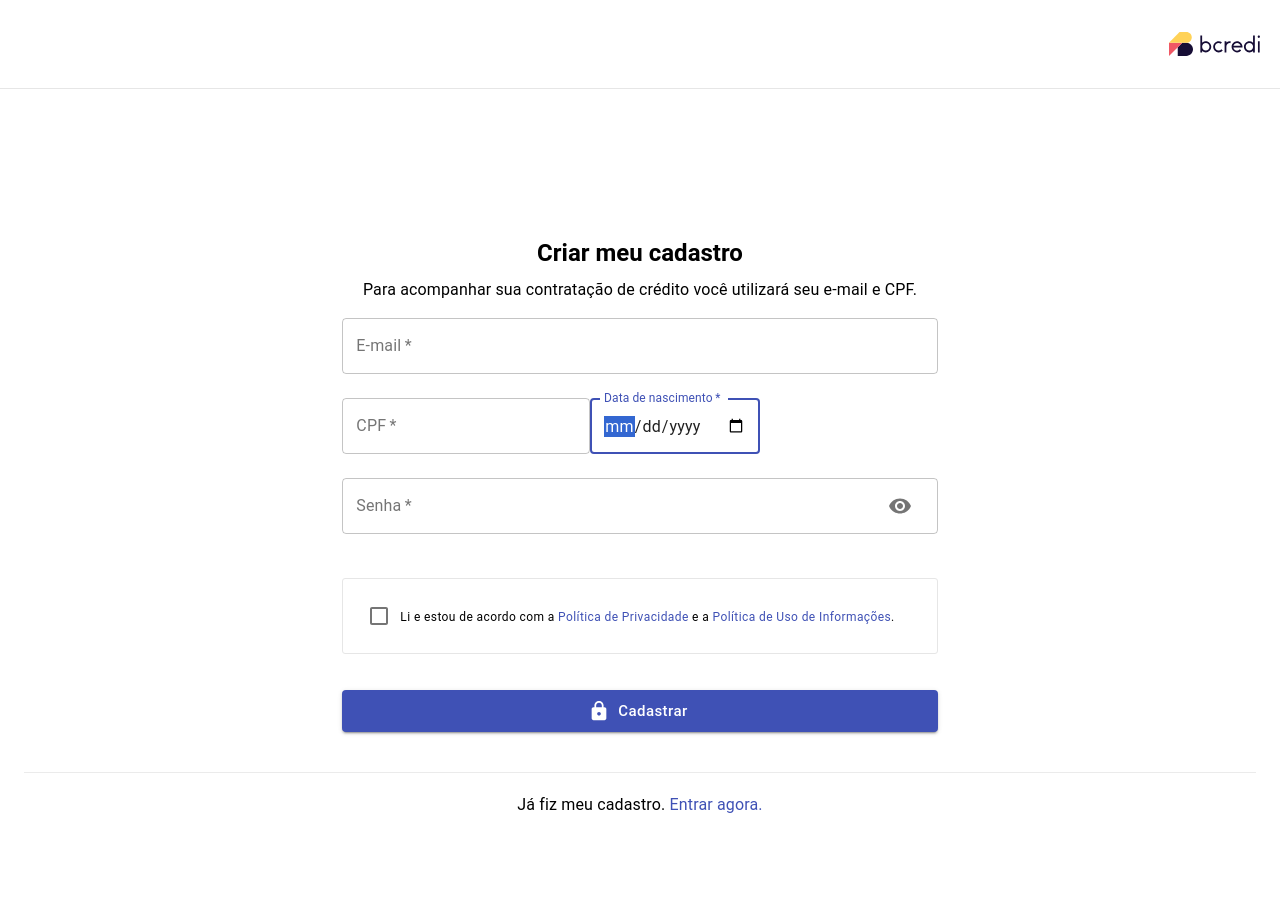
Test: App component › should show a success message when the form is sent successfully
Type "meu@email.com" into the field named "email" at (640, 346), box top-left (342, 318), bottom-right (938, 374)
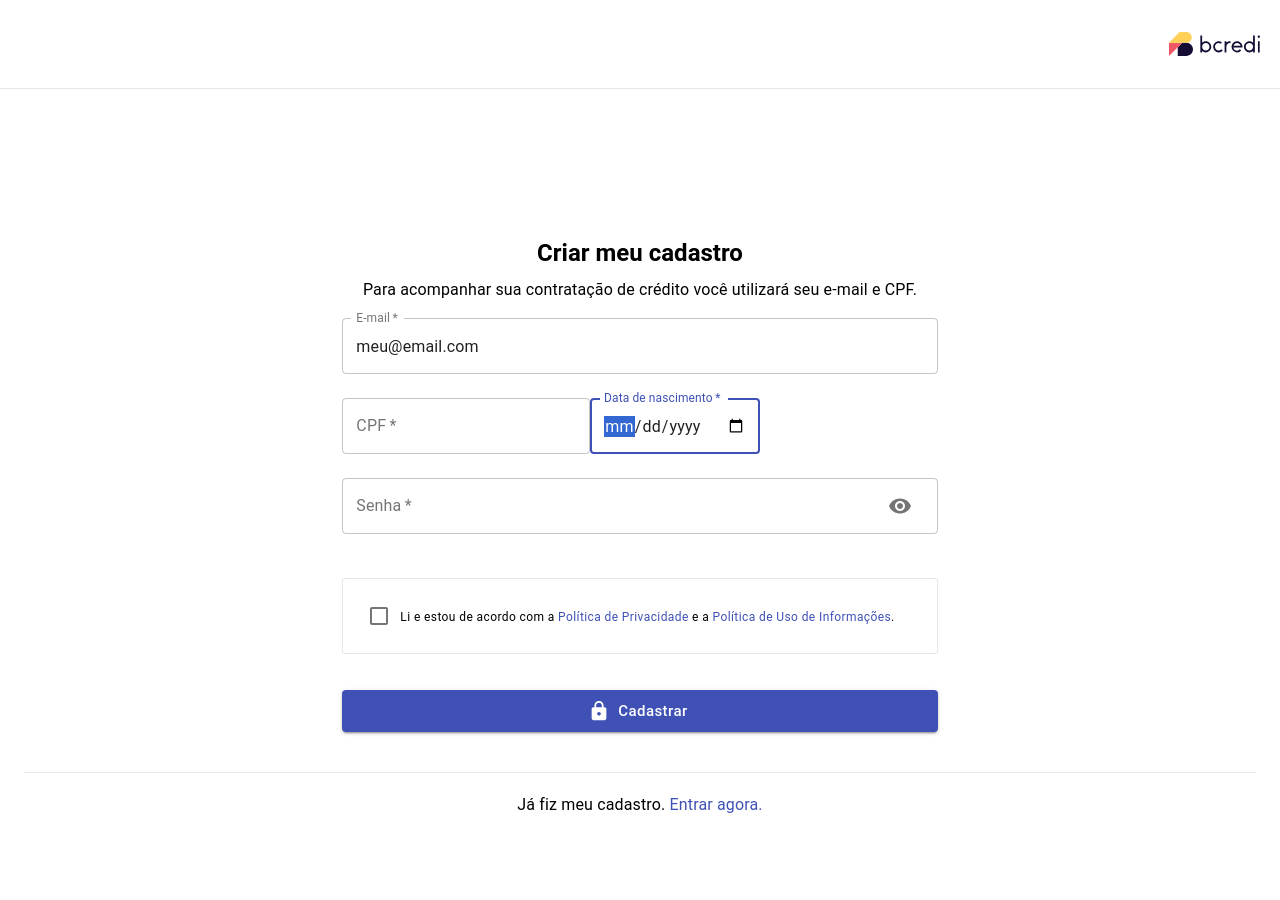
Type "111.111.111-11" into the field named "cpf" in the row of "Data de nascimento" at (466, 426), box top-left (342, 398), bottom-right (590, 454)
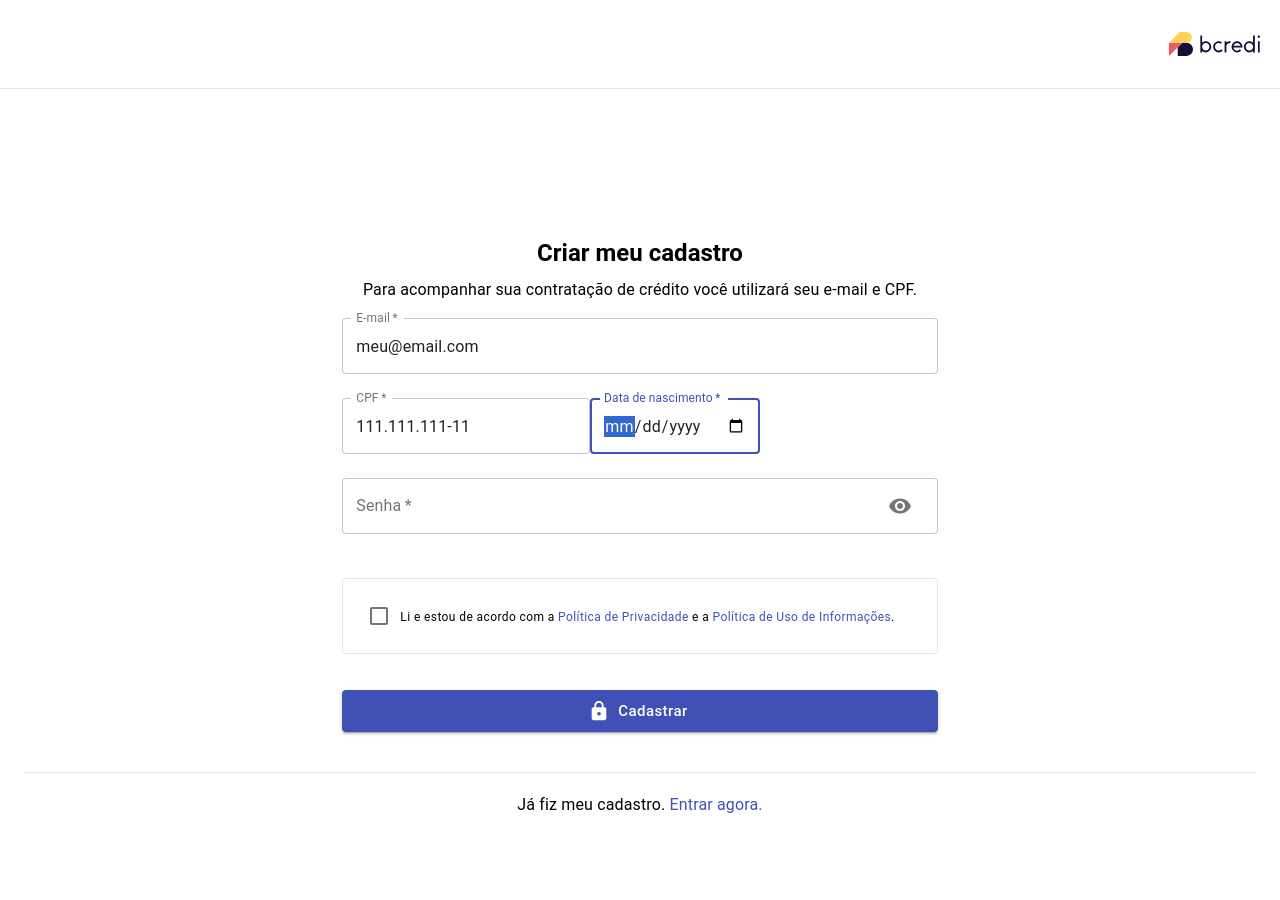
Type "1111-11-11" into the date field named "birthday" at (675, 426), box top-left (590, 398), bottom-right (760, 454)
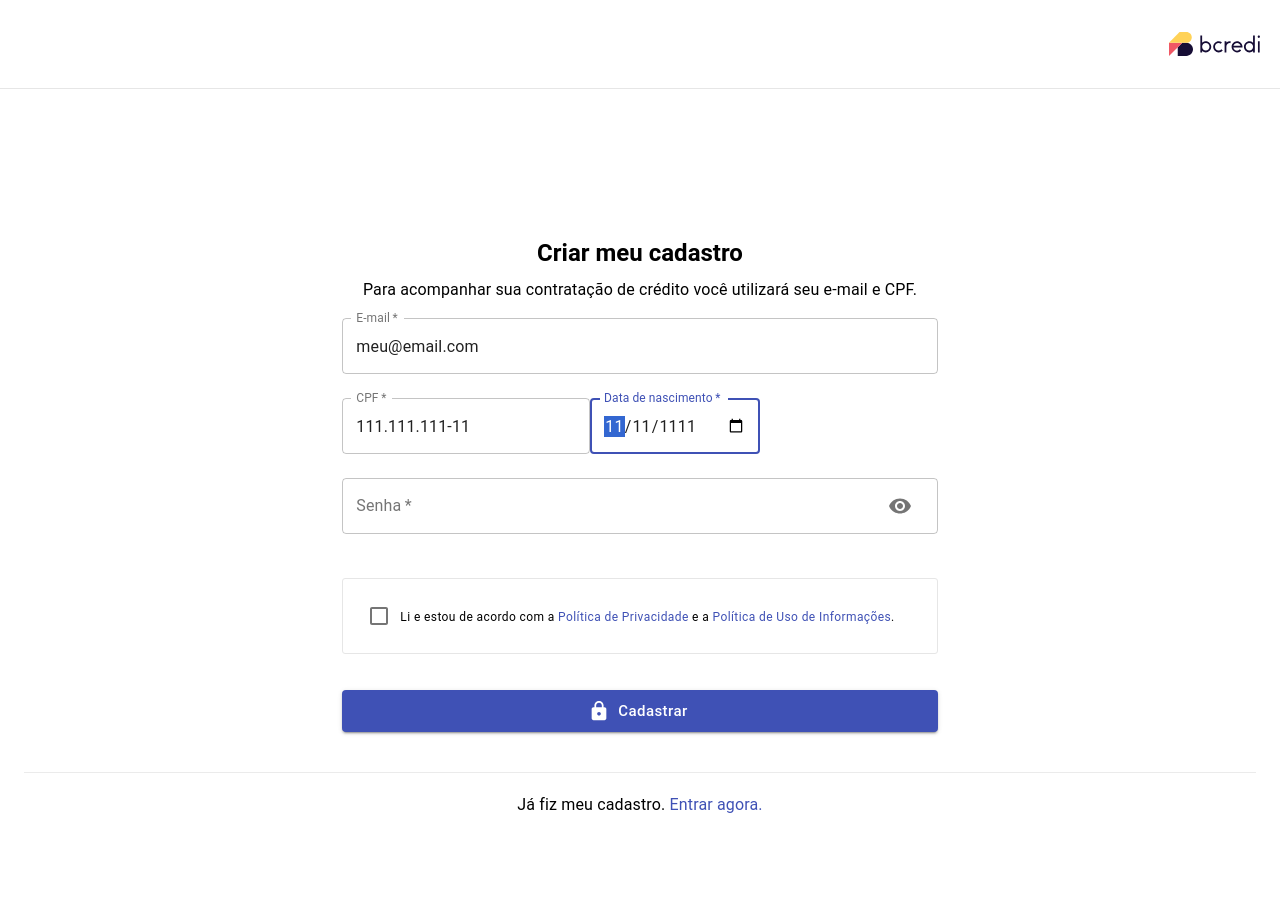
Type "1111111" into the password field named "password" at (605, 506), box top-left (342, 478), bottom-right (868, 534)
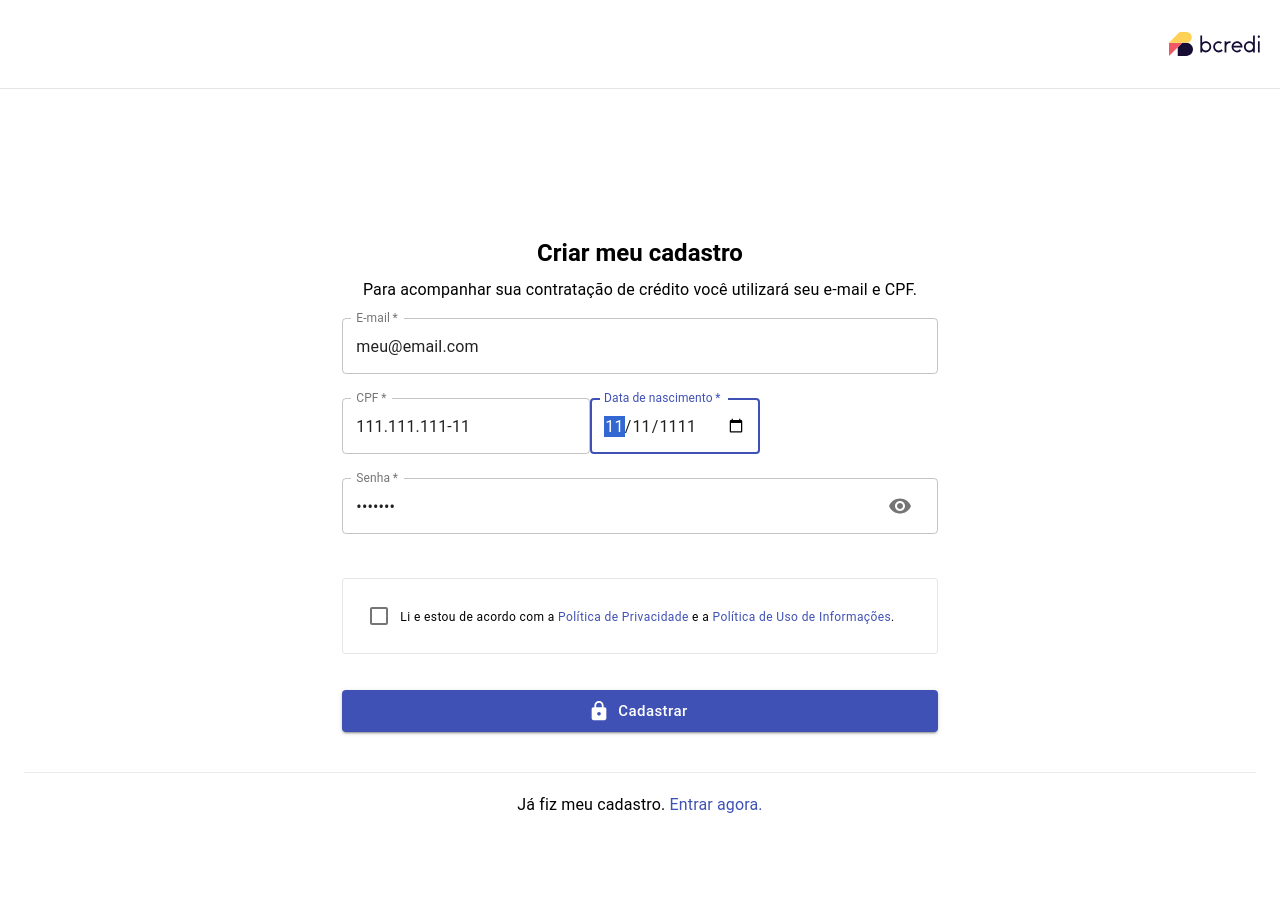
Type "true" into the password field named "password" at (605, 506), box top-left (342, 478), bottom-right (868, 534)
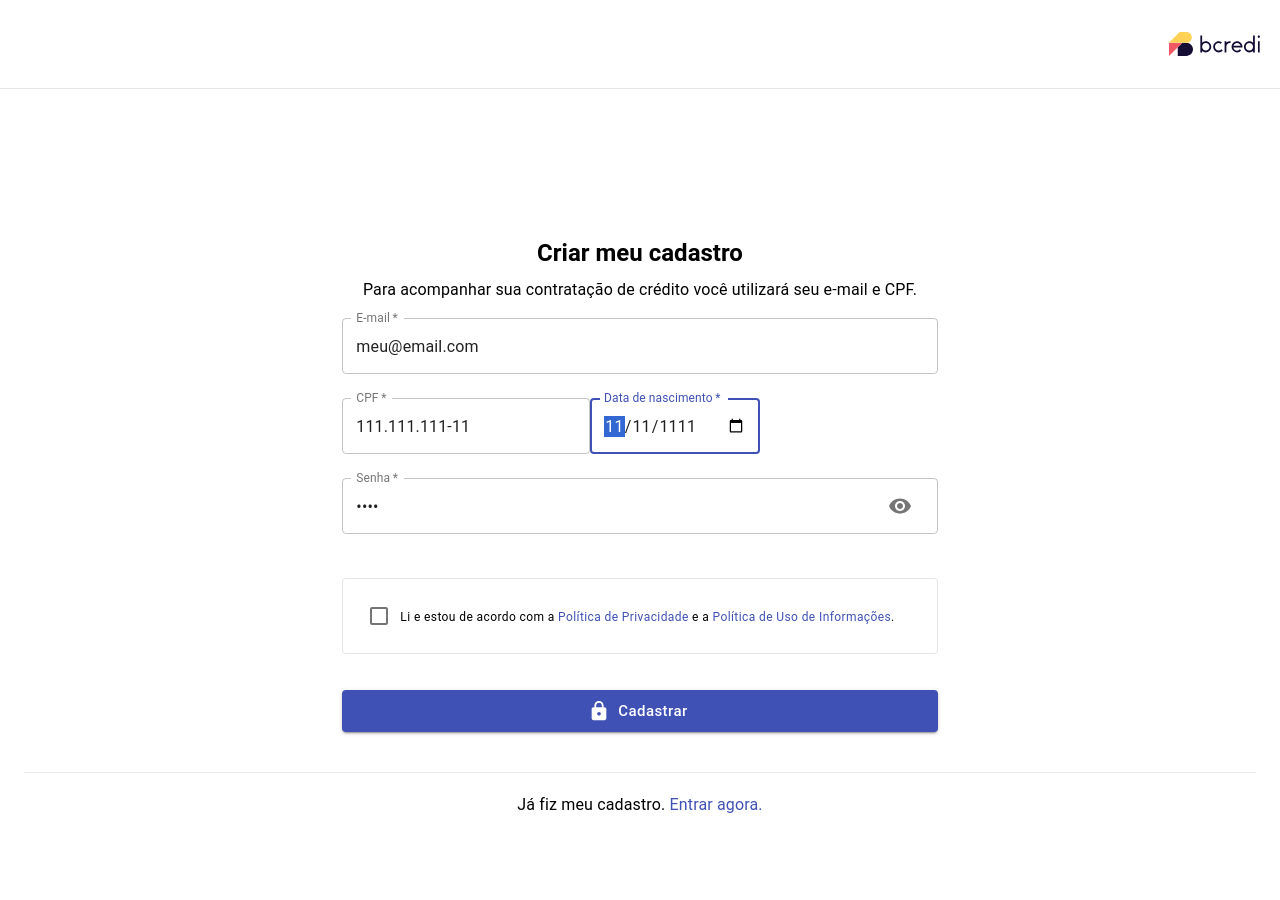
Click the button with test id "submitButton" at (640, 711), box top-left (342, 690), bottom-right (938, 732)
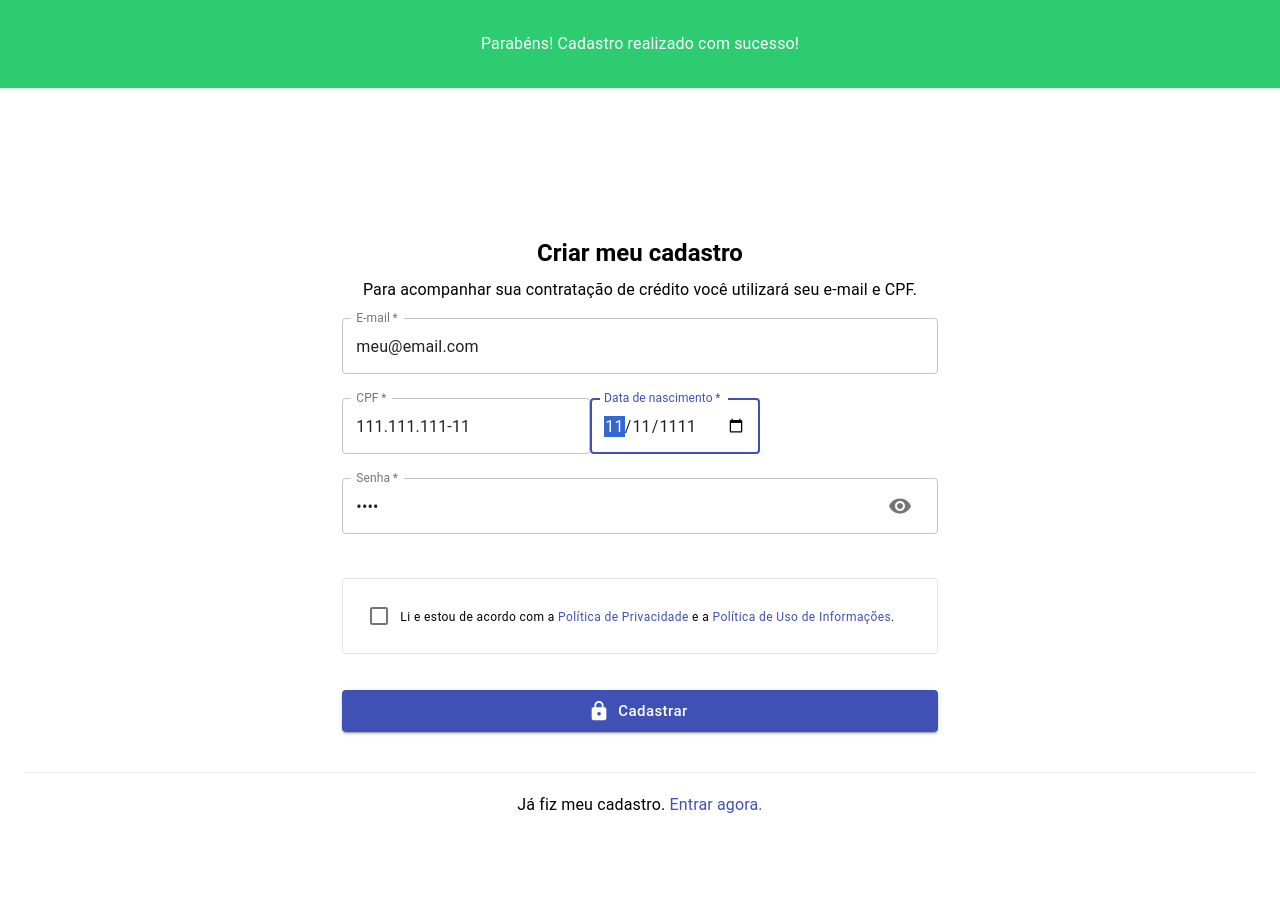
Check: the text "Parabéns! Cadastro realizado com sucesso!" is shown, box top-left (481, 32), bottom-right (799, 56)
